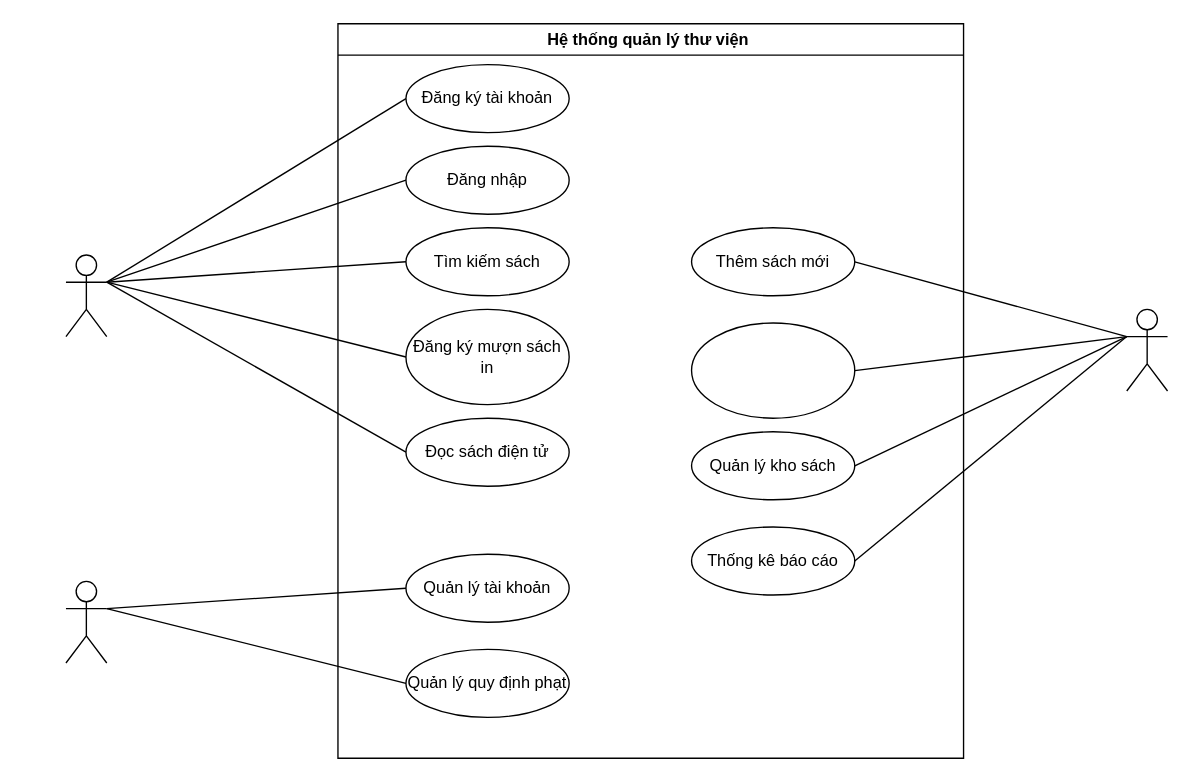
Image size: 1200x782. Some labels were removed from this diagram. The centre of each missing label's shape, as x and y in pixels:
Quản trị hệ thống: the point at 86,621
Thủ thư: the point at 1146,349
Xác nhận mượn/trả sách: the point at 772,370
Đọc giả: the point at 86,295
